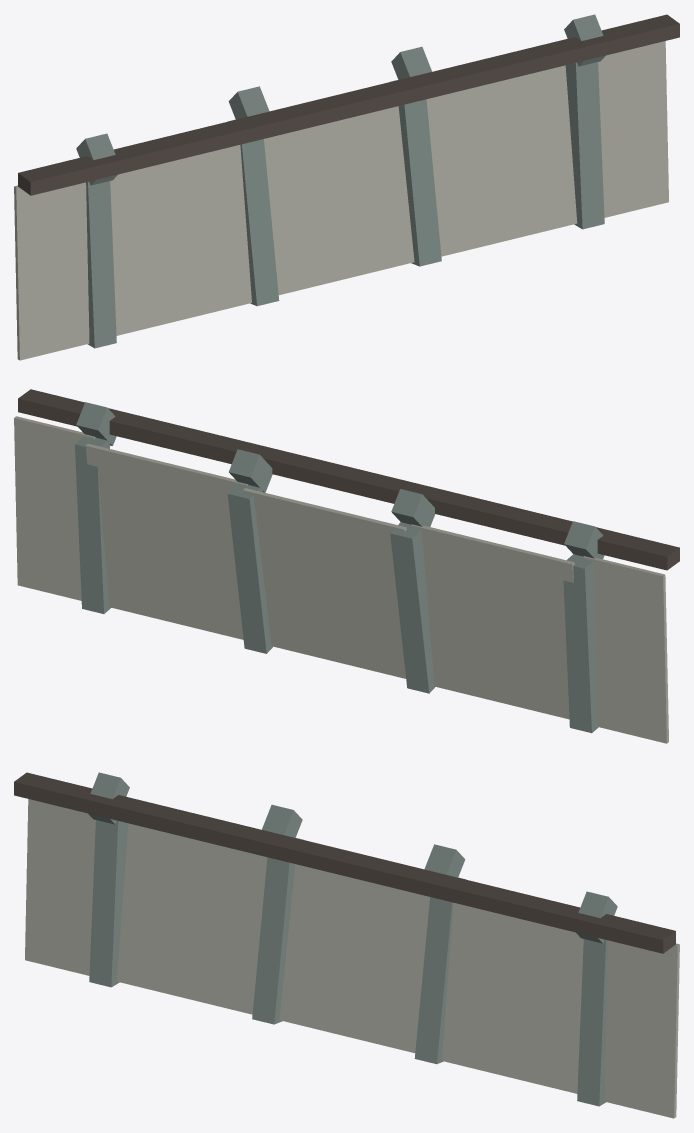
File: SM_VallaBase_v1_LOD1.fbx
3 renders of one model, top to bottom at view 1: azimuth 30°, elevation 25°; view 2: azimuth 150°, elevation 25°; view 3: azimuth 330°, elevation 25°, orthographic.
Parts seen in each view (by area): view 1: SM_valla_base_v1_LOD1; view 2: SM_valla_base_v1_LOD1; view 3: SM_valla_base_v1_LOD1.
Boxes of the visible parts, x1=… form: SM_valla_base_v1_LOD1: x1=14, y1=14, x2=679, y2=360; SM_valla_base_v1_LOD1: x1=14, y1=389, x2=679, y2=743; SM_valla_base_v1_LOD1: x1=14, y1=772, x2=679, y2=1118.
Size of the model in its own units: 9.98 by 3 by 0.9453.
